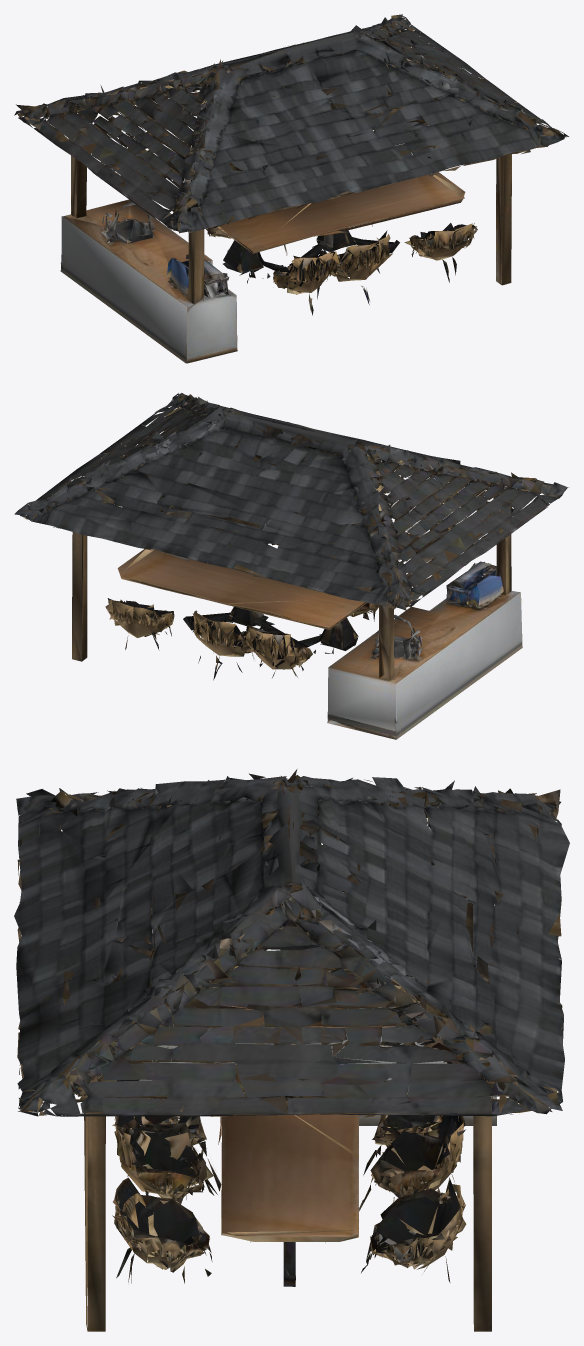
The model's file is Tiki_Pavilion_town.glb.
The picture shows the model from 3 angles, top to bottom: view 1: azimuth 30°, elevation 25°; view 2: azimuth 150°, elevation 25°; view 3: azimuth 270°, elevation 25°; orthographic projection. The views are drawn at different scales.
Visible parts, largest first — view 1: Tiki_Pavilion; view 2: Tiki_Pavilion; view 3: Tiki_Pavilion.
Part boxes in pixels (left/top/right/bottom): Tiki_Pavilion: left=14, top=14, right=568, bottom=363; Tiki_Pavilion: left=14, top=393, right=568, bottom=739; Tiki_Pavilion: left=14, top=769, right=569, bottom=1331.
Bounding box in the file's own units: 1.91 × 1.09 × 1.42.
1 material, 1 textured.
